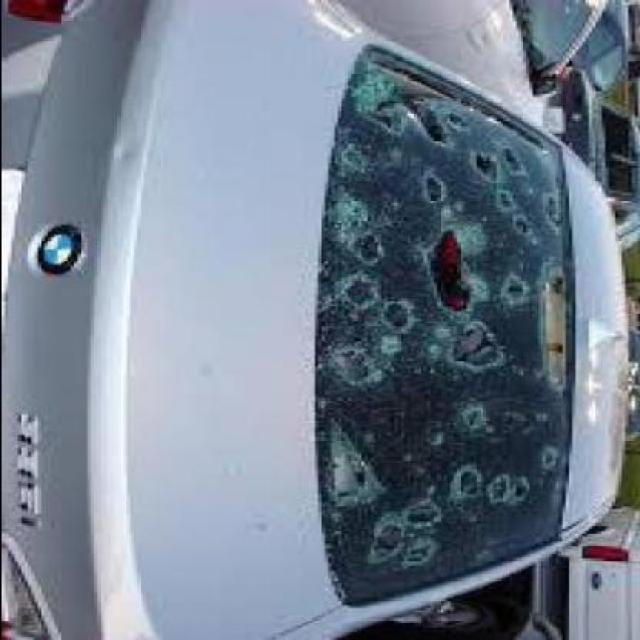damage: (316, 58, 574, 614)
